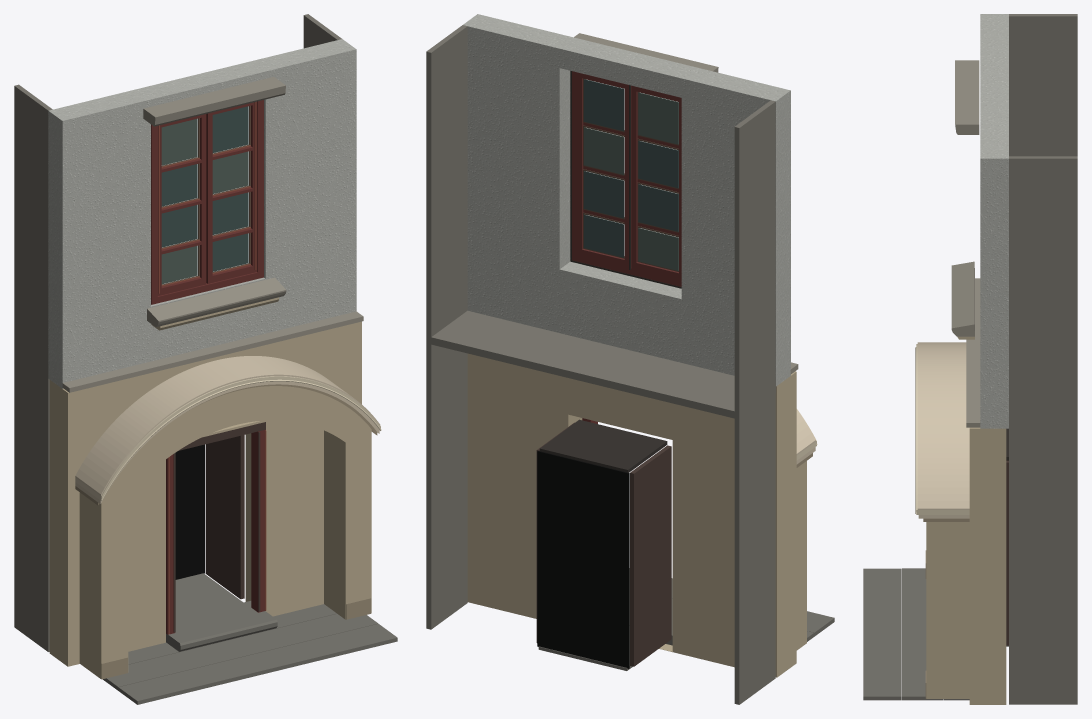
File: hongkou-huayuanli-six-court-arch-web.glb
The picture shows the model from 3 angles, left to right: view 1: azimuth 30°, elevation 25°; view 2: azimuth 150°, elevation 25°; view 3: azimuth 270°, elevation 25°; orthographic projection. The views are drawn at different scales.
Parts seen in each view (by area): view 1: 花园里6号曾联松旧居院内券门与双窗; view 2: 花园里6号曾联松旧居院内券门与双窗; view 3: 花园里6号曾联松旧居院内券门与双窗.
Part boxes in pixels (bbox=[...]): 花园里6号曾联松旧居院内券门与双窗: bbox=[14, 14, 397, 704]; 花园里6号曾联松旧居院内券门与双窗: bbox=[426, 14, 834, 704]; 花园里6号曾联松旧居院内券门与双窗: bbox=[863, 14, 1077, 704].
Size of the model in its own units: 3.48 by 6.17 by 2.18.
16 materials, 1 textured.
